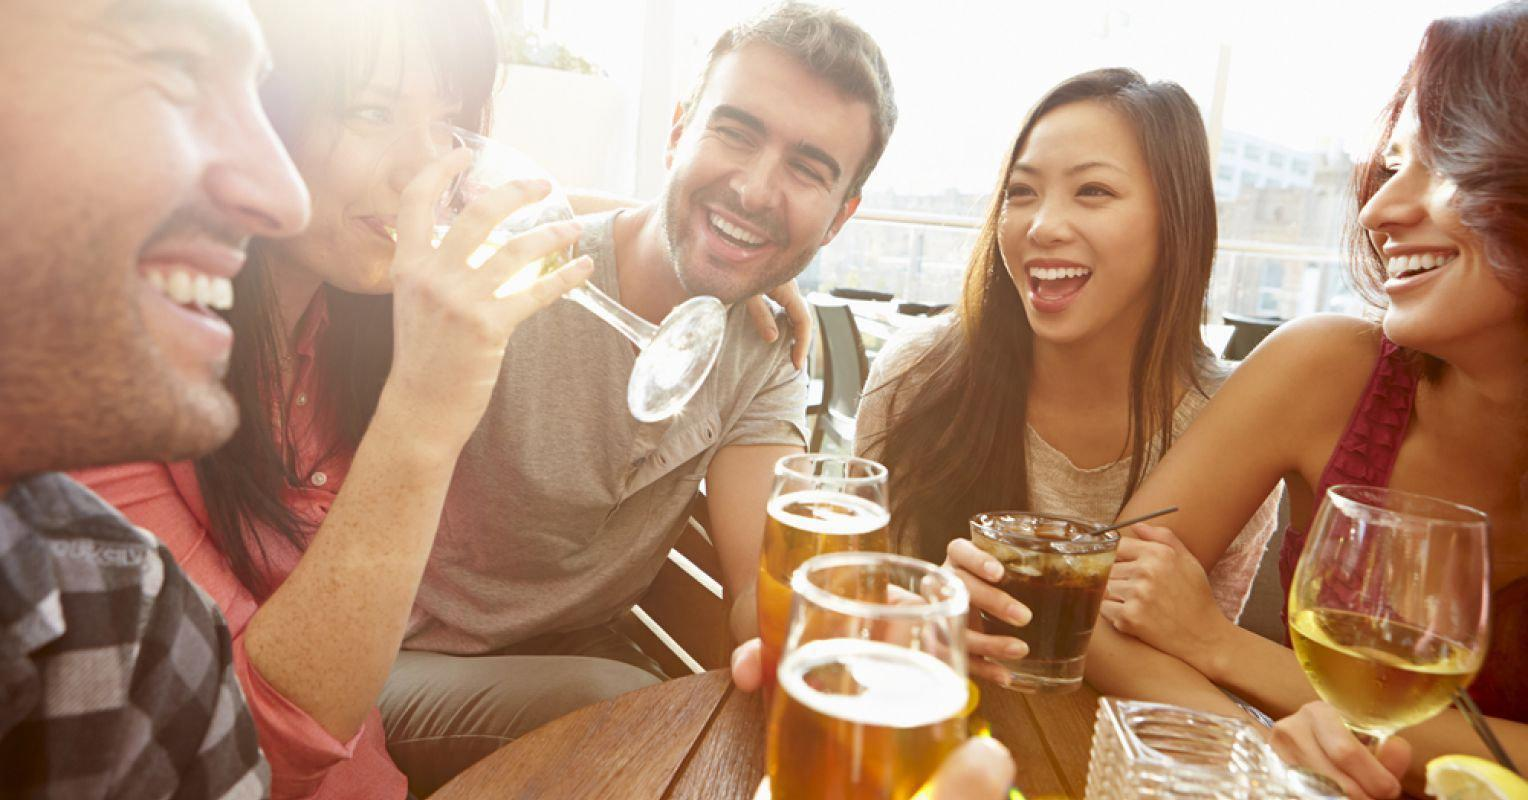Drunk: (677, 72, 849, 298), (1006, 117, 1155, 333)
